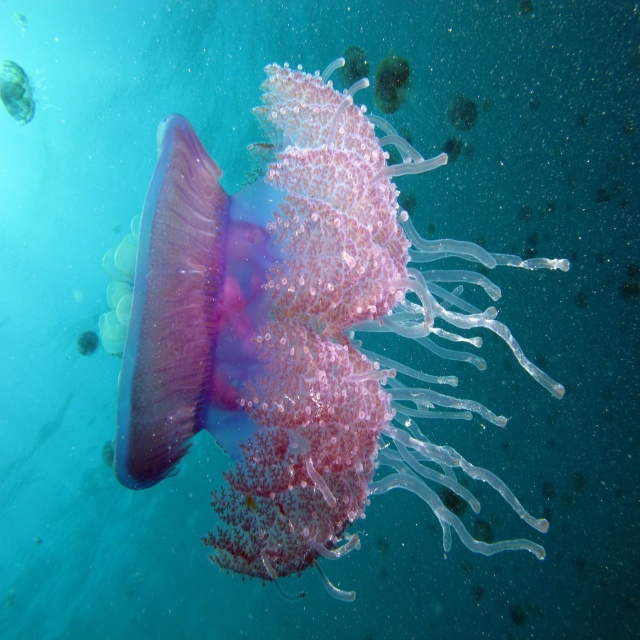Jellyfish: (99, 83, 597, 573)
